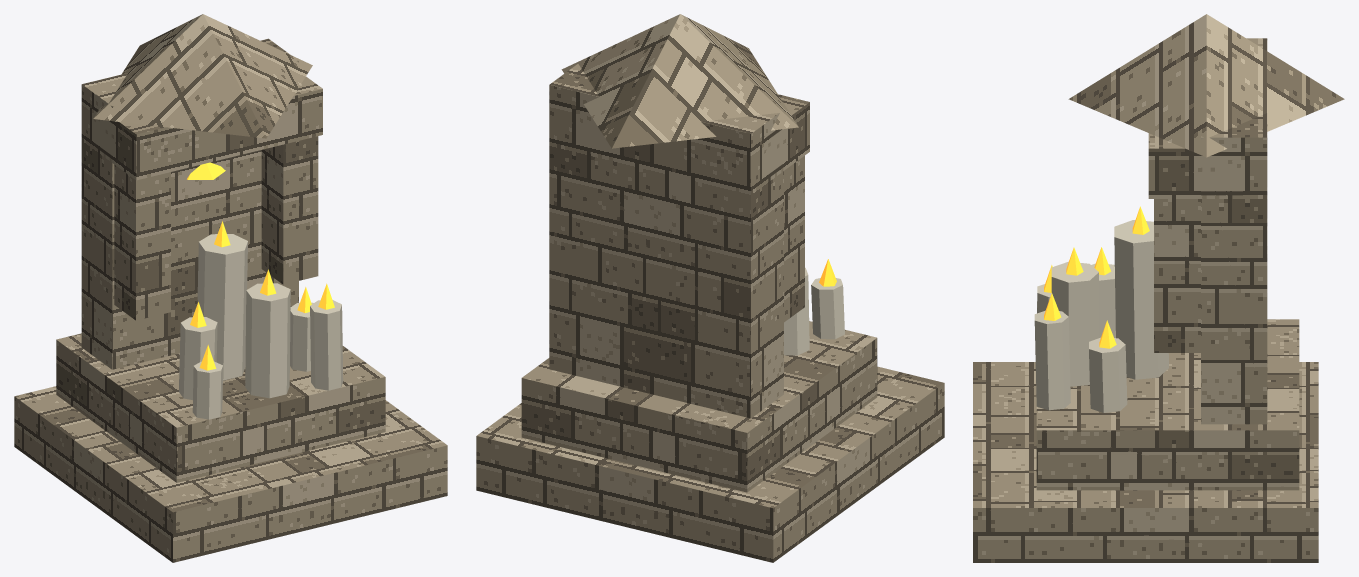
The model's file is candle_shrine_t1.glb.
The picture shows the model from 3 angles, left to right: view 1: azimuth 30°, elevation 25°; view 2: azimuth 150°, elevation 25°; view 3: azimuth 270°, elevation 25°; orthographic projection. The views are drawn at different scales.
Visible parts, largest first — view 1: plinth_low, plinth_high, back_slab, niche_gable, niche_hood, niche_cheek_1, niche_cheek_0, candle_3, candle_1, candle_4, candle_0, candle_5 (+1 smaller); view 2: back_slab, plinth_low, plinth_high, niche_gable, niche_cheek_1, niche_hood, candle_5, candle_0; view 3: plinth_low, plinth_high, back_slab, niche_gable, niche_cheek_0, candle_3, niche_hood, candle_1, candle_4, candle_2, candle_0.
Part boxes in pixels (x1,y1,x2,y2): plinth_low: [14, 386, 447, 562]; plinth_high: [56, 333, 385, 482]; back_slab: [81, 38, 298, 369]; niche_gable: [93, 14, 312, 138]; niche_hood: [94, 76, 322, 180]; niche_cheek_1: [114, 164, 170, 320]; niche_cheek_0: [261, 136, 318, 284]; candle_3: [197, 234, 247, 380]; candle_1: [245, 283, 290, 398]; candle_4: [310, 300, 343, 390]; candle_0: [179, 317, 217, 400]; candle_5: [192, 361, 222, 419]; back_slab: [549, 64, 783, 418]; plinth_low: [476, 366, 944, 562]; plinth_high: [521, 321, 877, 492]; niche_gable: [561, 14, 798, 148]; niche_cheek_1: [784, 155, 804, 322]; niche_hood: [763, 94, 809, 181]; candle_5: [811, 278, 844, 339]; candle_0: [784, 267, 809, 355]; plinth_low: [973, 362, 1318, 562]; plinth_high: [1036, 319, 1299, 490]; back_slab: [1201, 38, 1267, 424]; niche_gable: [1068, 14, 1344, 157]; niche_cheek_0: [1154, 199, 1200, 352]; candle_3: [1114, 220, 1168, 379]; niche_hood: [1148, 133, 1242, 198]; candle_1: [1051, 261, 1098, 386]; candle_4: [1034, 310, 1070, 410]; candle_2: [1089, 337, 1127, 412]; candle_0: [1091, 263, 1115, 337].
Size of what is drawn, in the model's own units: 1.25 by 1.9 by 1.34.
4 materials, 1 textured.
